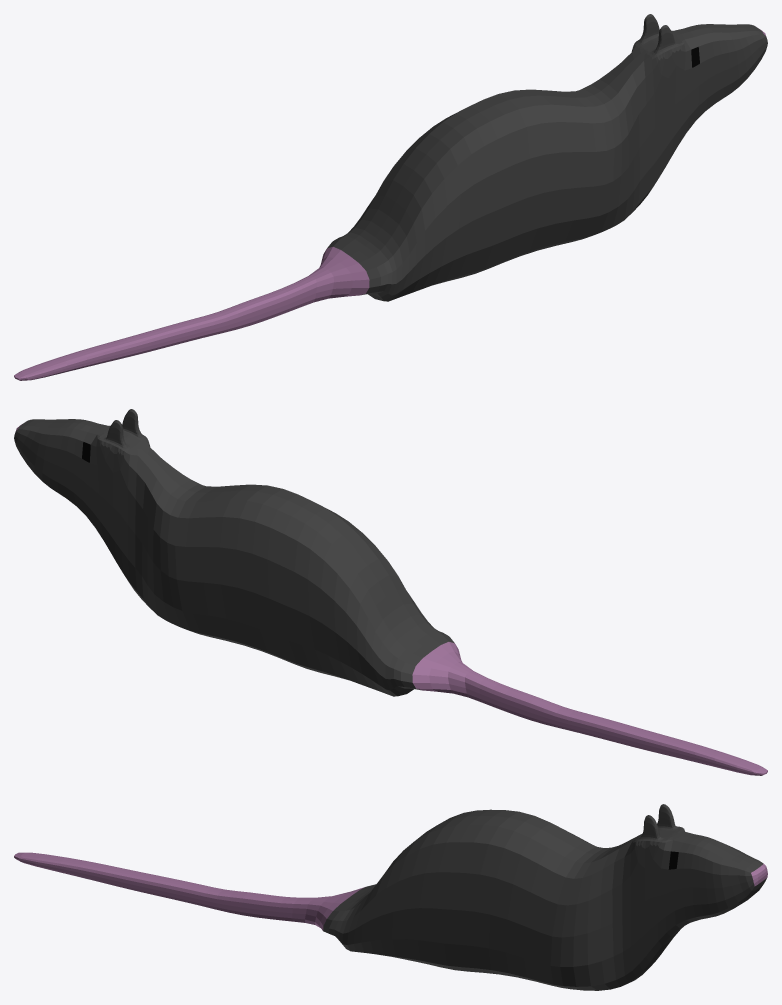
The model's file is rat.fbx.
The picture shows the model from 3 angles, top to bottom: view 1: azimuth 30°, elevation 25°; view 2: azimuth 150°, elevation 25°; view 3: azimuth 330°, elevation 25°; orthographic projection.
Visible parts, largest first — view 1: Cube; view 2: Cube; view 3: Cube.
Boxes of the visible parts, x1,y1,x2,y2 form: Cube: [14, 14, 767, 380]; Cube: [14, 409, 767, 775]; Cube: [14, 804, 767, 990].
Bounding box in the file's own units: 412 × 108 × 50.78.
